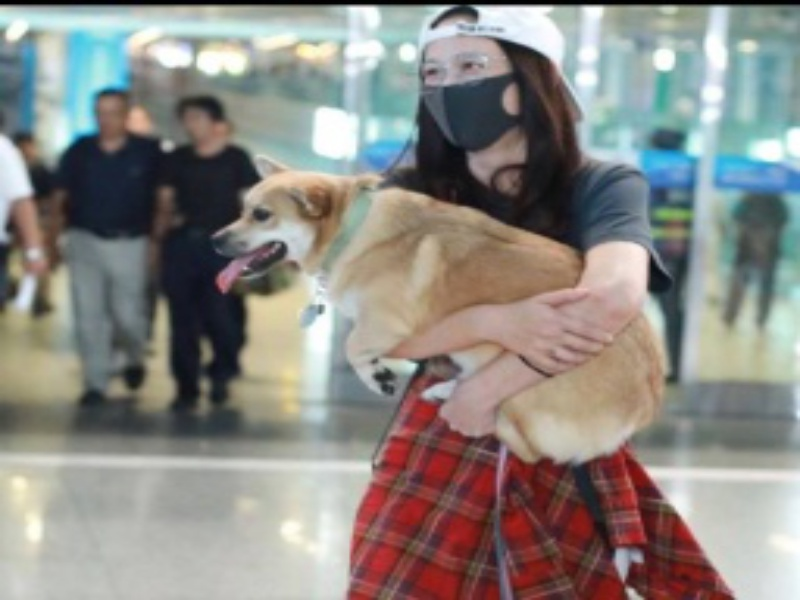ManaoArotava: (399, 5, 548, 182)
